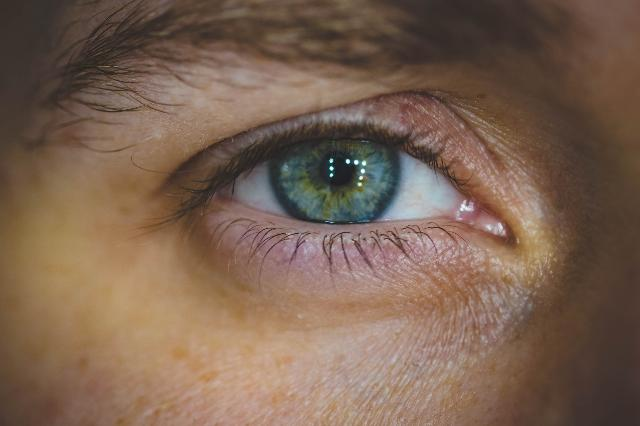eye: (266, 116, 404, 226)
